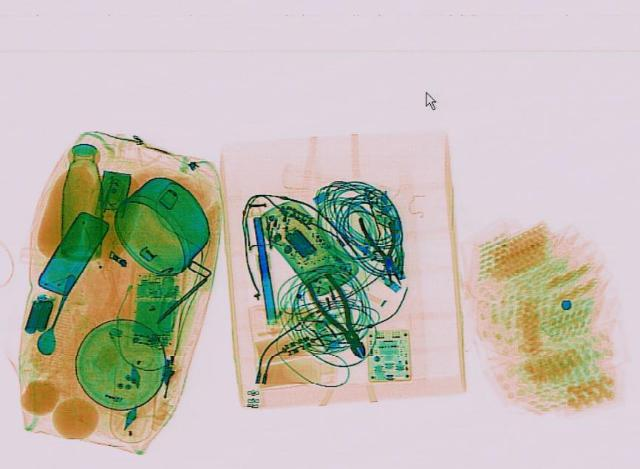Pliers: (298, 271, 379, 362), (356, 213, 408, 286)
